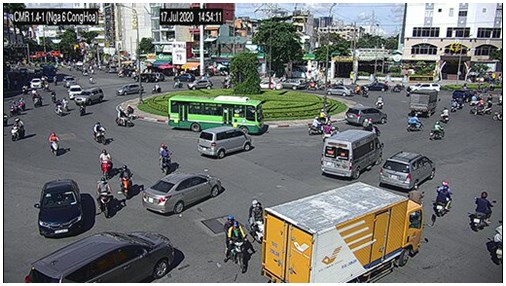xe_Tai: (261, 180, 422, 285)
xe_buyt: (166, 95, 263, 135)
xe_hoi: (25, 233, 174, 281), (140, 172, 222, 214), (38, 179, 82, 236), (380, 151, 435, 190), (196, 126, 252, 160), (72, 88, 104, 105), (115, 83, 144, 95), (327, 84, 353, 96), (188, 79, 212, 91), (281, 79, 306, 90), (133, 72, 155, 83), (174, 73, 194, 84), (68, 85, 83, 99), (367, 82, 388, 92), (61, 76, 77, 87), (30, 78, 41, 89)
xe_khach: (322, 129, 382, 181)
xe_may: (224, 216, 246, 272), (470, 190, 490, 233), (248, 199, 265, 243), (435, 180, 452, 218), (96, 176, 111, 218), (493, 219, 505, 264), (119, 165, 133, 200), (409, 183, 423, 218), (100, 149, 113, 180), (11, 117, 27, 142), (114, 105, 131, 128), (428, 119, 445, 142), (306, 116, 325, 135), (159, 142, 170, 174), (48, 131, 61, 157), (93, 120, 106, 146), (362, 118, 380, 136), (407, 112, 423, 132), (316, 109, 332, 126), (470, 102, 485, 116), (33, 93, 44, 108), (54, 100, 63, 117), (10, 100, 20, 115), (440, 106, 449, 122), (375, 95, 383, 109), (79, 101, 86, 116), (449, 98, 456, 112), (353, 84, 361, 96), (150, 85, 162, 93), (63, 98, 69, 113), (362, 86, 369, 98)
xe_tai: (409, 89, 438, 117)
